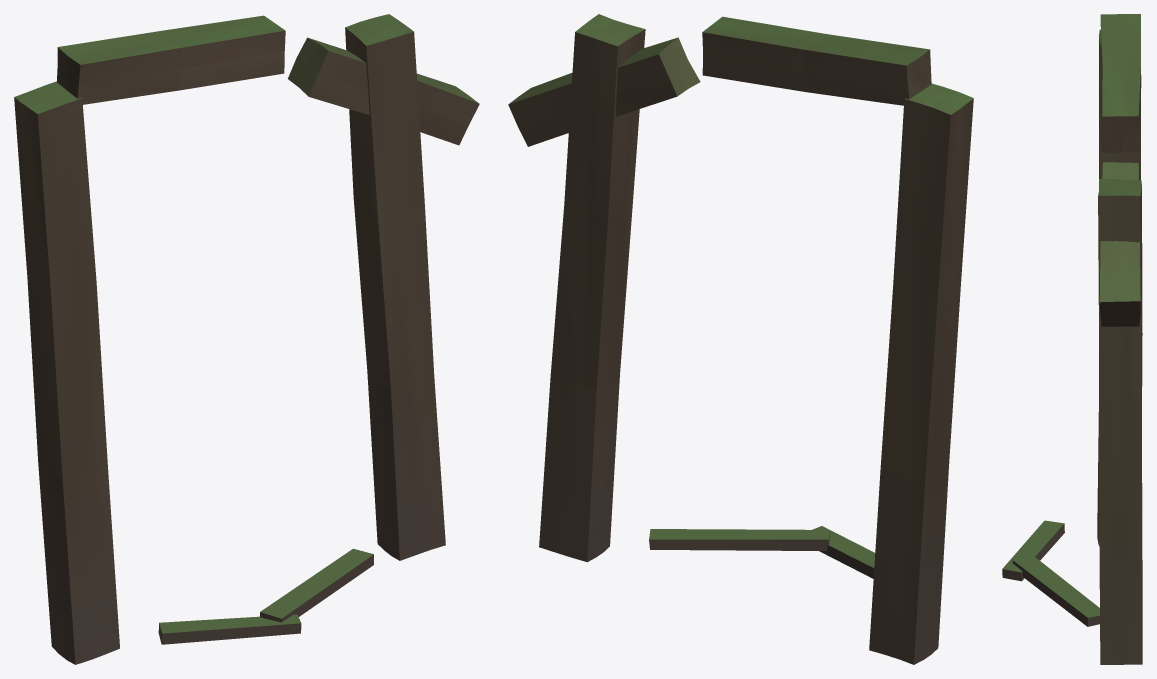
The model's file is timber_support.glb.
3 renders of one model, left to right at view 1: azimuth 30°, elevation 25°; view 2: azimuth 150°, elevation 25°; view 3: azimuth 270°, elevation 25°, orthographic. The views are drawn at different scales.
Visible parts, largest first — view 1: timber; view 2: timber; view 3: timber.
Boxes of the visible parts, x1,y1,x2,y2 form: timber: [14, 14, 479, 664]; timber: [508, 14, 973, 664]; timber: [1002, 14, 1142, 664].
Size of the model in its own units: 2.57 by 3.31 by 0.8105.
